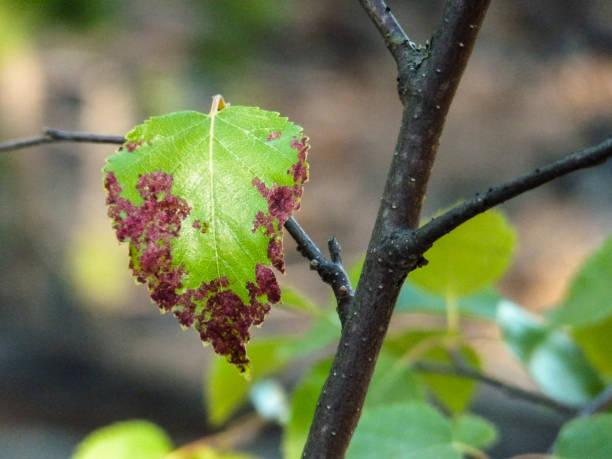Apple Scab Leaf: (98, 77, 332, 384)
